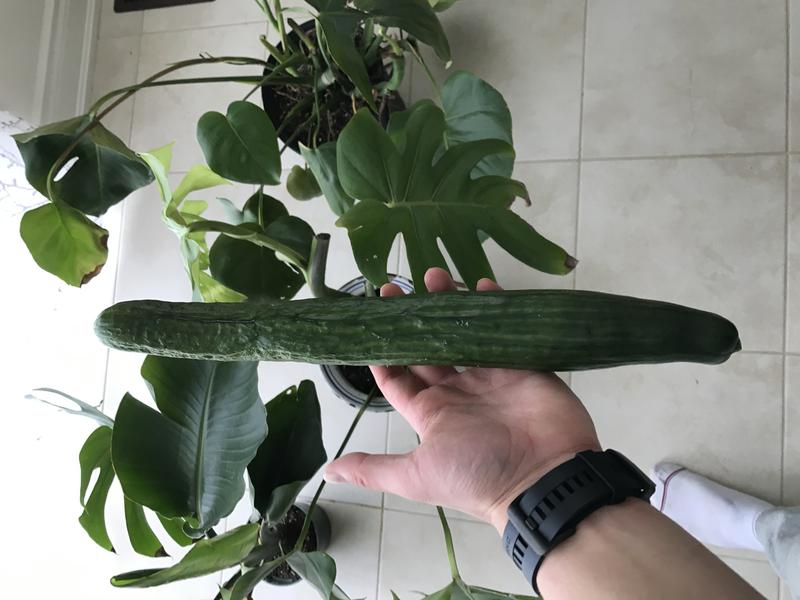cucumber: (85, 285, 755, 378)
